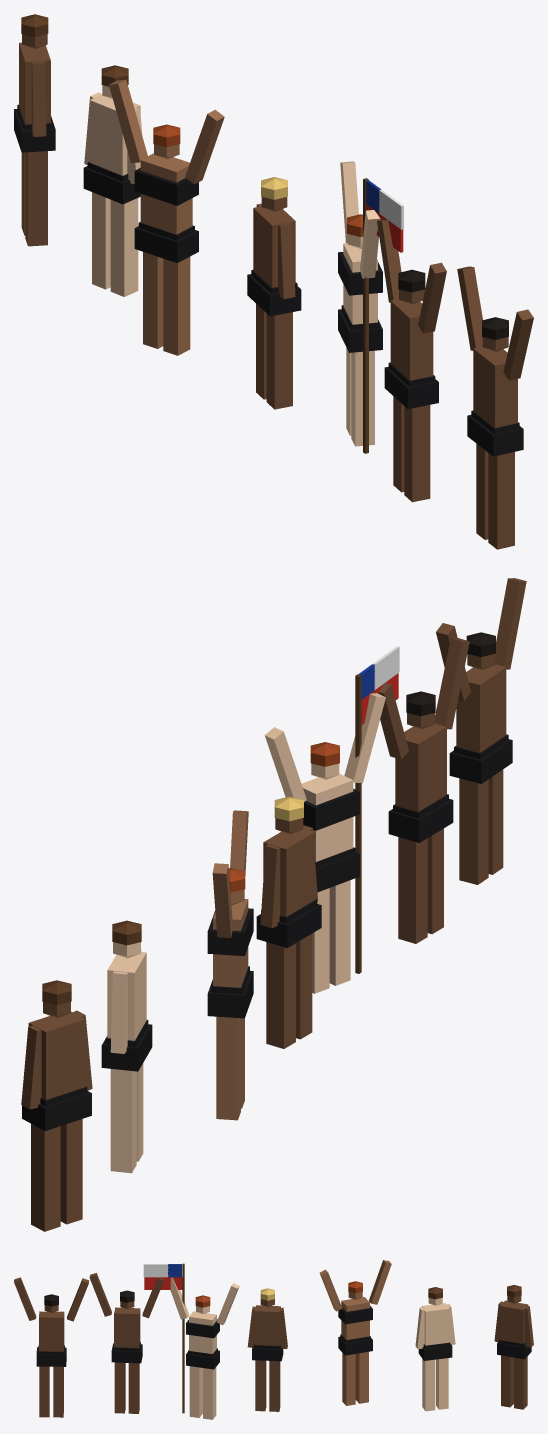
The model's file is nudista_publico_2.obj.
3 views of the same model, one above another, from view 1: azimuth 30°, elevation 25°; view 2: azimuth 150°, elevation 25°; view 3: azimuth 270°, elevation 25° (orthographic). The views are drawn at different scales.
Parts seen in each view (by area): view 1: nudista_publico_2; view 2: nudista_publico_2; view 3: nudista_publico_2.
Boxes of the visible parts, x1,y1,x2,y2 form: nudista_publico_2: [14, 14, 533, 549]; nudista_publico_2: [21, 578, 526, 1231]; nudista_publico_2: [14, 1260, 533, 1419].
Bounding box in the file's own units: 0.8408 × 2.1 × 6.66.
